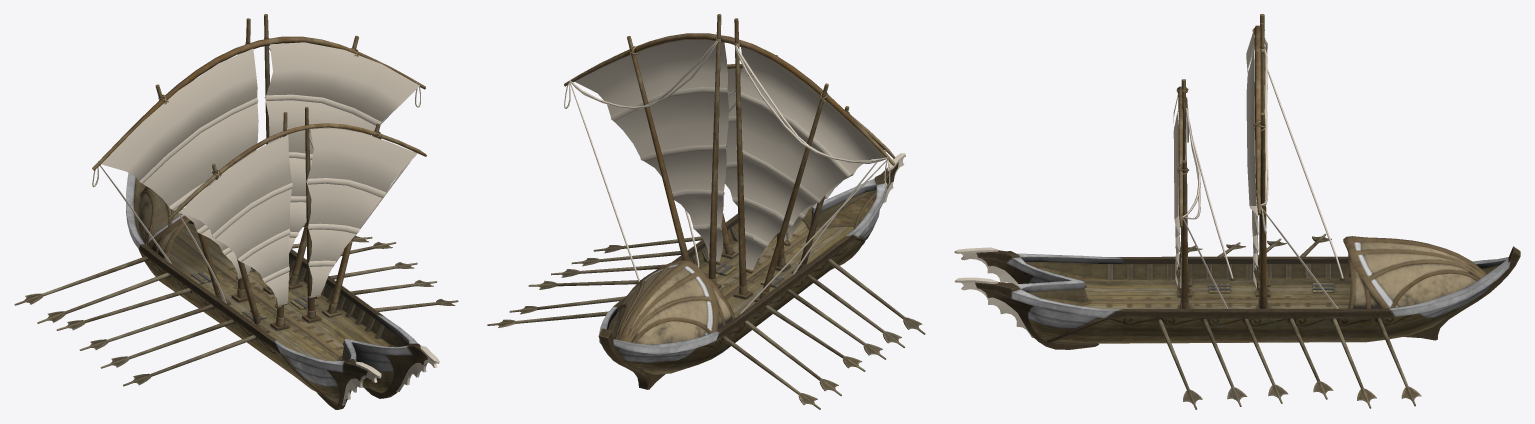
Rendered from 250-bireme.glb.
3 views of the same model, side by side, from view 1: azimuth 30°, elevation 25°; view 2: azimuth 150°, elevation 25°; view 3: azimuth 270°, elevation 25° (orthographic). The views are drawn at different scales.
Size of the model in its own units: 5.65 by 4.98 by 8.01.
Materials: 3 (1 with a texture image).
